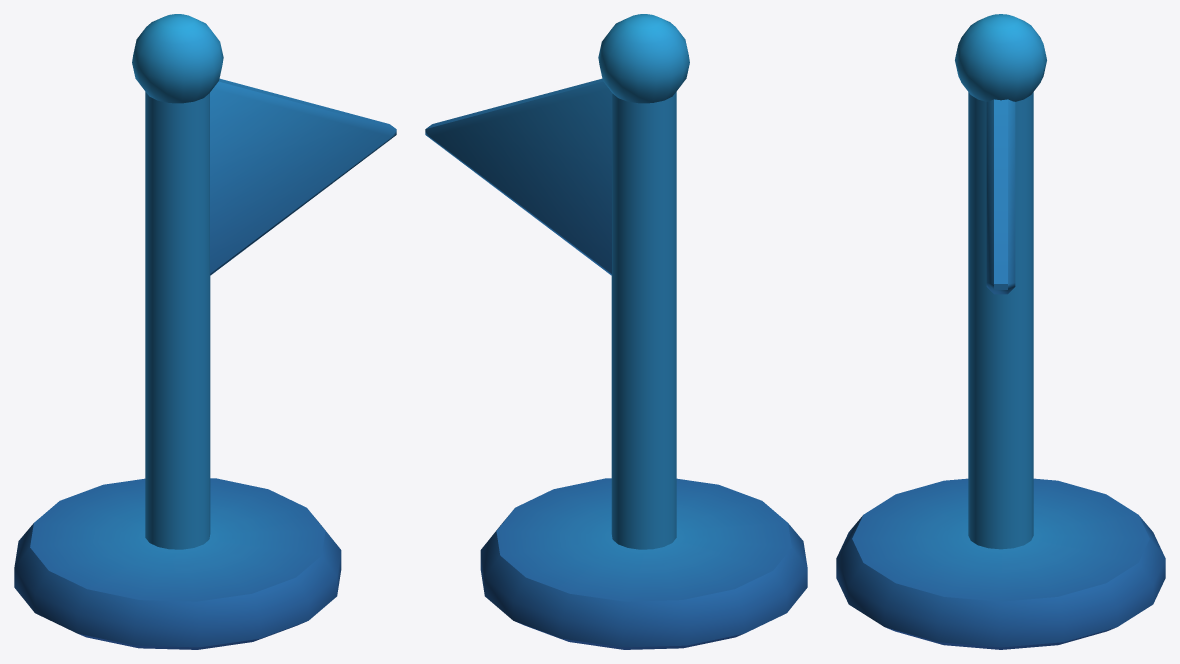
Rendered from flag_A_blue.obj.
3 renders of one model, left to right at view 1: azimuth 30°, elevation 25°; view 2: azimuth 150°, elevation 25°; view 3: azimuth 270°, elevation 25°, orthographic.
Visible parts, largest first — view 1: flag_A_blue; view 2: flag_A_blue; view 3: flag_A_blue.
Part boxes in pixels (x1,y1,x2,y2): flag_A_blue: (14,14,396,649); flag_A_blue: (425,14,807,649); flag_A_blue: (836,14,1165,649).
Bounding box in the file's own units: 0.9404 × 1.43 × 0.75.
1 material, 1 textured.
